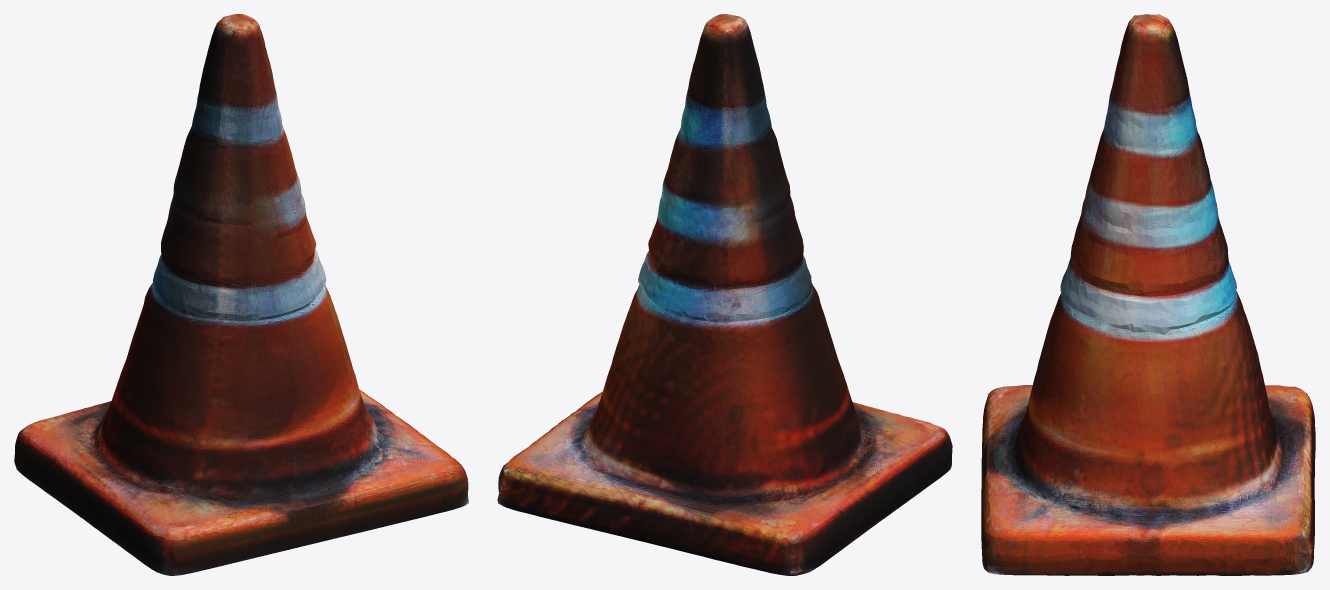
Rendered from a traffic cone.glb.
The picture shows the model from 3 angles, left to right: view 1: azimuth 30°, elevation 25°; view 2: azimuth 150°, elevation 25°; view 3: azimuth 270°, elevation 25°; orthographic projection. The views are drawn at different scales.
Bounding box in the file's own units: 0.7077 × 1.01 × 0.632.
1 material, 1 textured.
